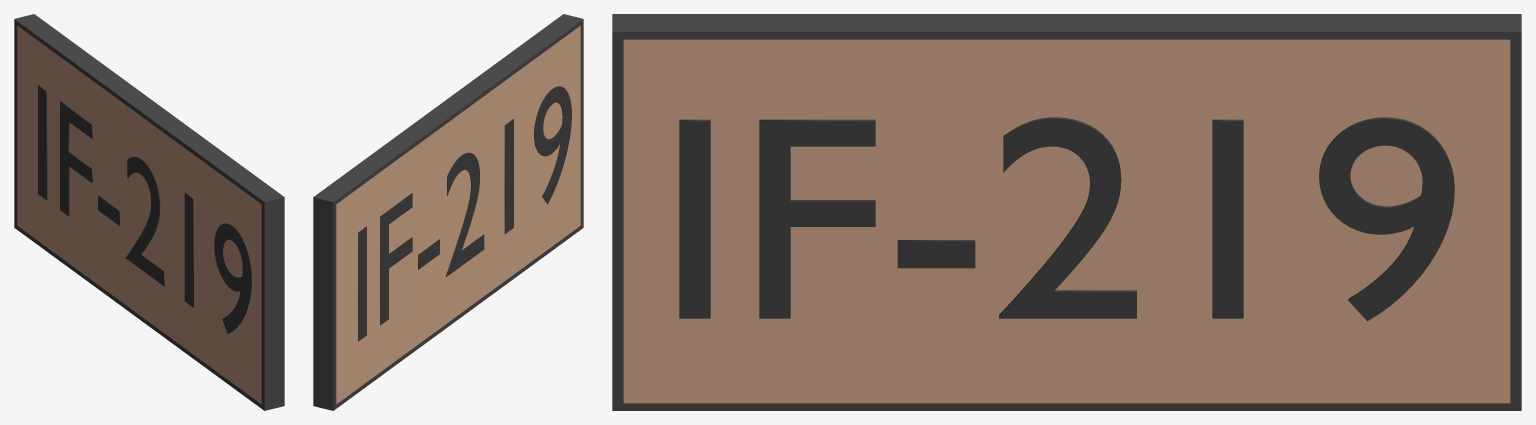
The picture shows the model from 3 angles, left to right: view 1: azimuth 30°, elevation 25°; view 2: azimuth 150°, elevation 25°; view 3: azimuth 270°, elevation 25°; orthographic projection. The views are drawn at different scales.
Parts seen in each view (by area): view 1: Cube, Text.001; view 2: Cube, Text.001; view 3: Cube, Text.
Part boxes in pixels (x1,y1,x2,y2): Cube: (14, 14, 284, 410); Text.001: (38, 85, 251, 333); Cube: (313, 14, 583, 410); Text.001: (358, 86, 571, 341); Cube: (612, 14, 1521, 410); Text: (679, 117, 1454, 321).
Size of the model in its own units: 11.55 by 102 by 222.
